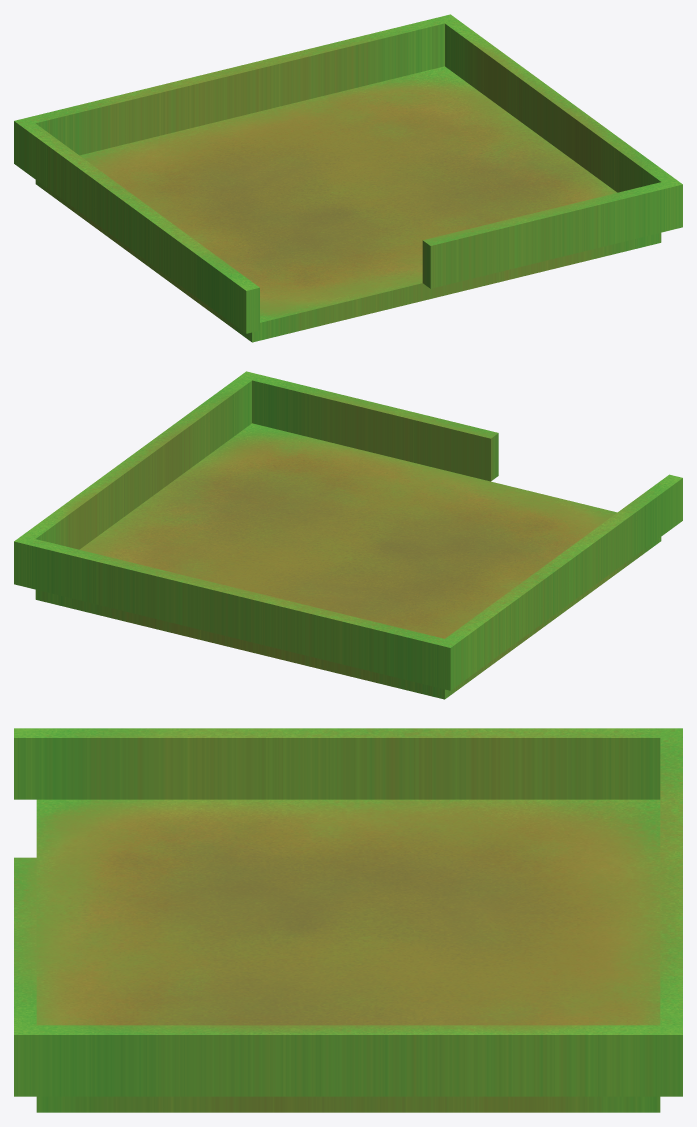
The model's file is Ground1.obj.
The picture shows the model from 3 angles, top to bottom: view 1: azimuth 30°, elevation 25°; view 2: azimuth 150°, elevation 25°; view 3: azimuth 270°, elevation 25°; orthographic projection. The views are drawn at different scales.
Parts seen in each view (by area): view 1: Cube_Cube.006; view 2: Cube_Cube.006; view 3: Cube_Cube.006.
Part boxes in pixels (x1,y1,x2,y2): Cube_Cube.006: [14, 14, 682, 342]; Cube_Cube.006: [14, 371, 682, 699]; Cube_Cube.006: [14, 728, 682, 1112].
Bounding box in the file's own units: 128 × 17 × 118.
Materials: 1 (1 with a texture image).
